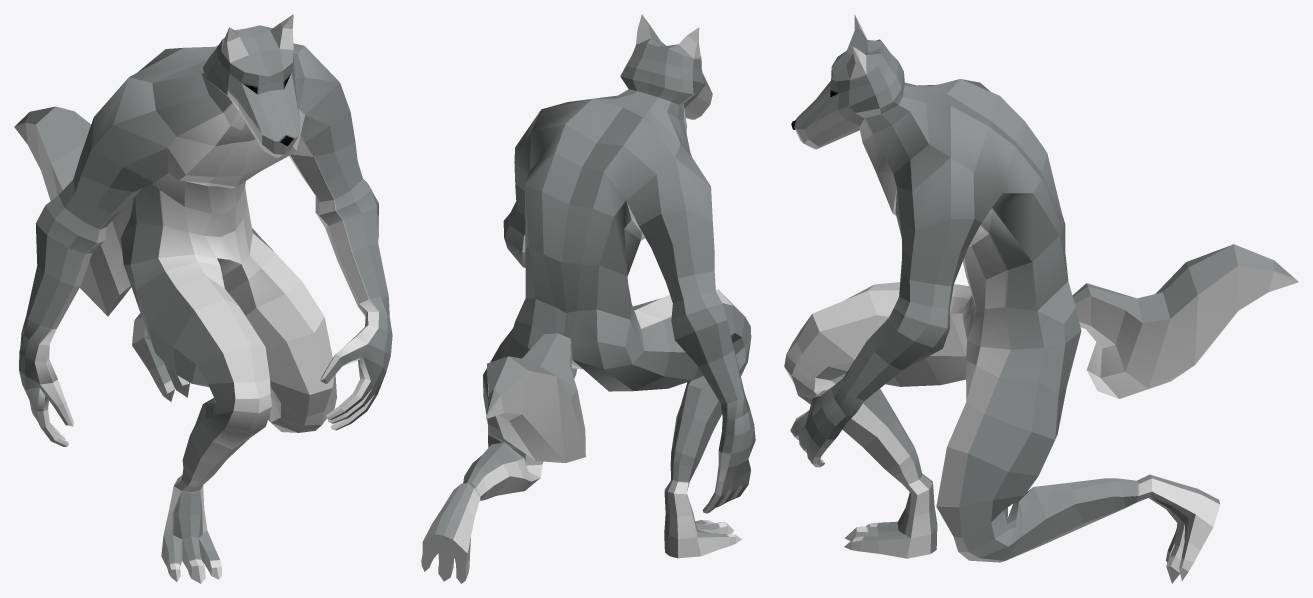
The model's file is WolfWalk(35).obj.
The picture shows the model from 3 angles, left to right: view 1: azimuth 30°, elevation 25°; view 2: azimuth 150°, elevation 25°; view 3: azimuth 270°, elevation 25°; orthographic projection. The views are drawn at different scales.
Visible parts, largest first — view 1: Box001; view 2: Box001; view 3: Box001.
Boxes of the visible parts, x1,y1,x2,y2 form: Box001: [14, 14, 392, 583]; Box001: [421, 14, 755, 583]; Box001: [784, 14, 1298, 583].
Bounding box in the file's own units: 72.34 × 121 × 105.
